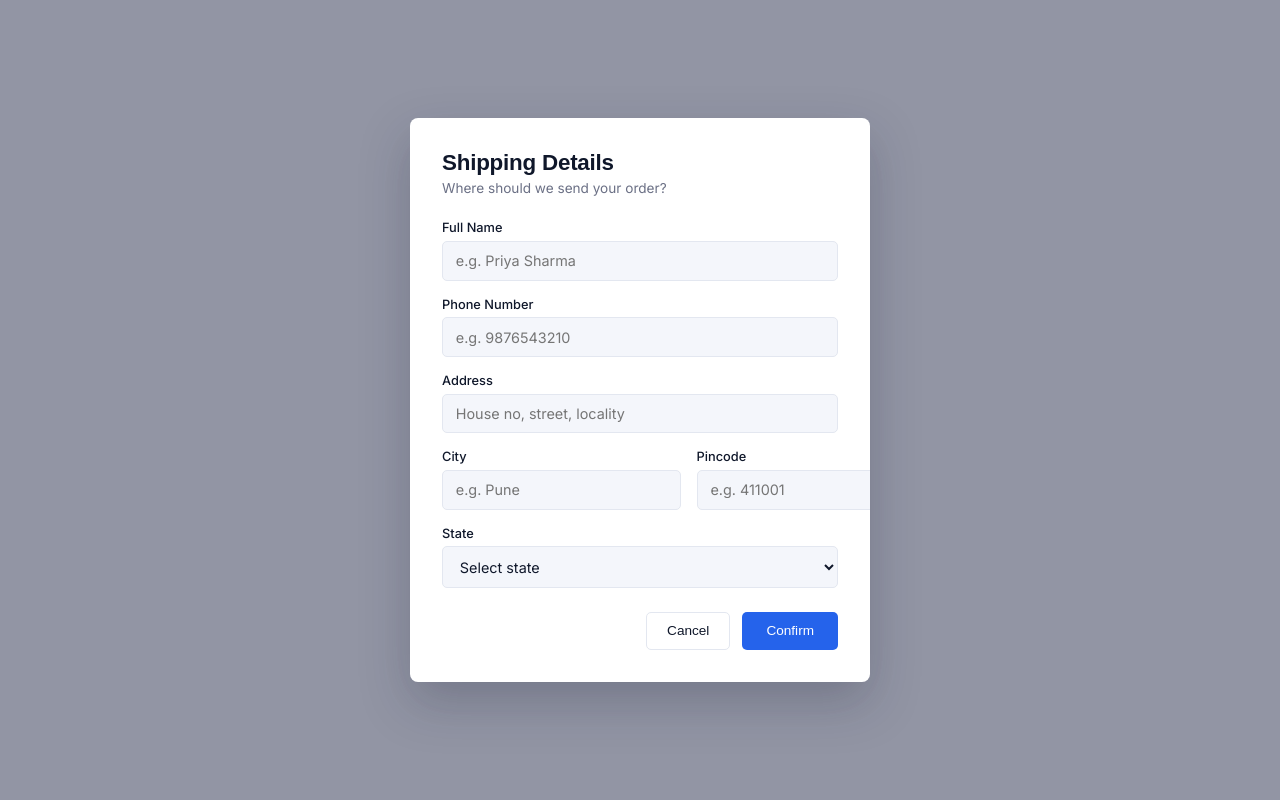
Scenario: AddressModal › shows validation errors when form is submitted empty
Click the button "Confirm" at (790, 631), box [742, 612, 838, 650]
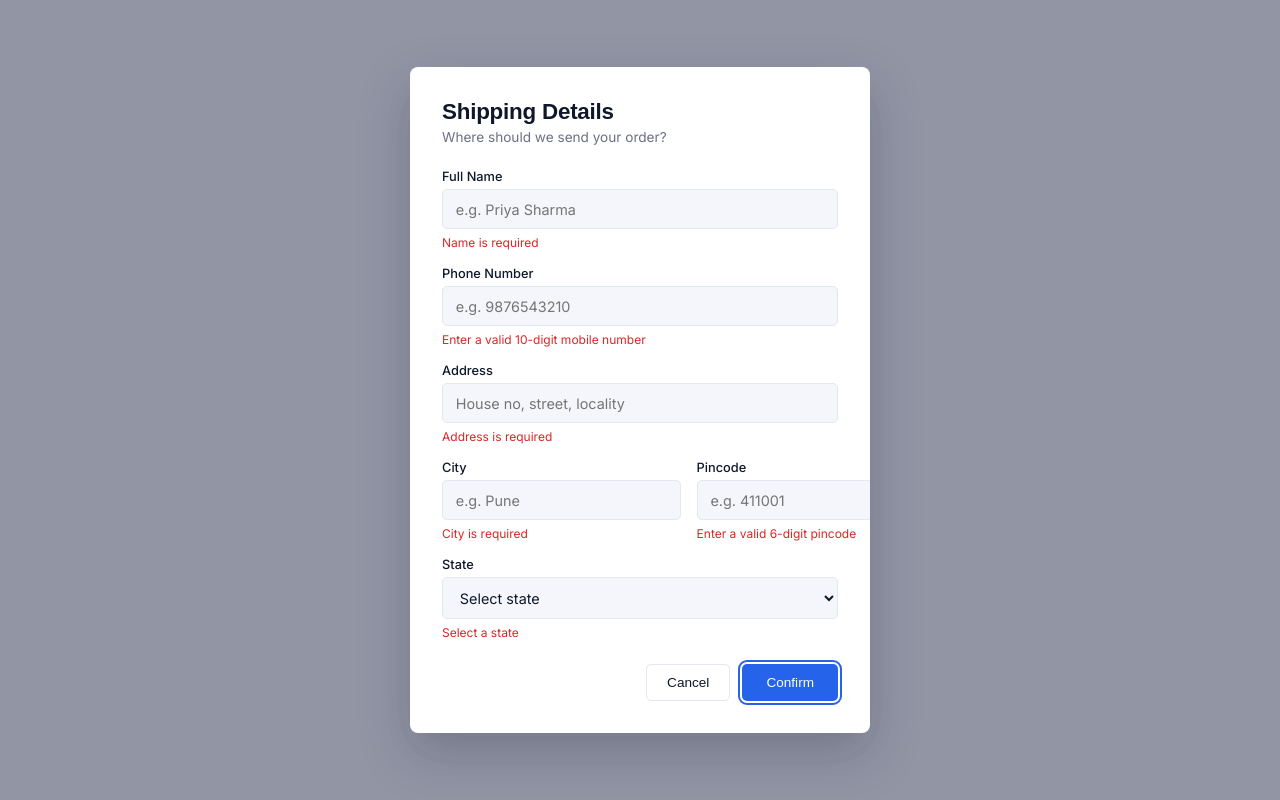
expect the text "Name is required" is shown: met, box [442, 235, 539, 250]
expect the text "Enter a valid 10-digit mobile number" is shown: met, box [442, 332, 646, 347]
expect the text "Address is required" is shown: met, box [442, 429, 552, 444]
